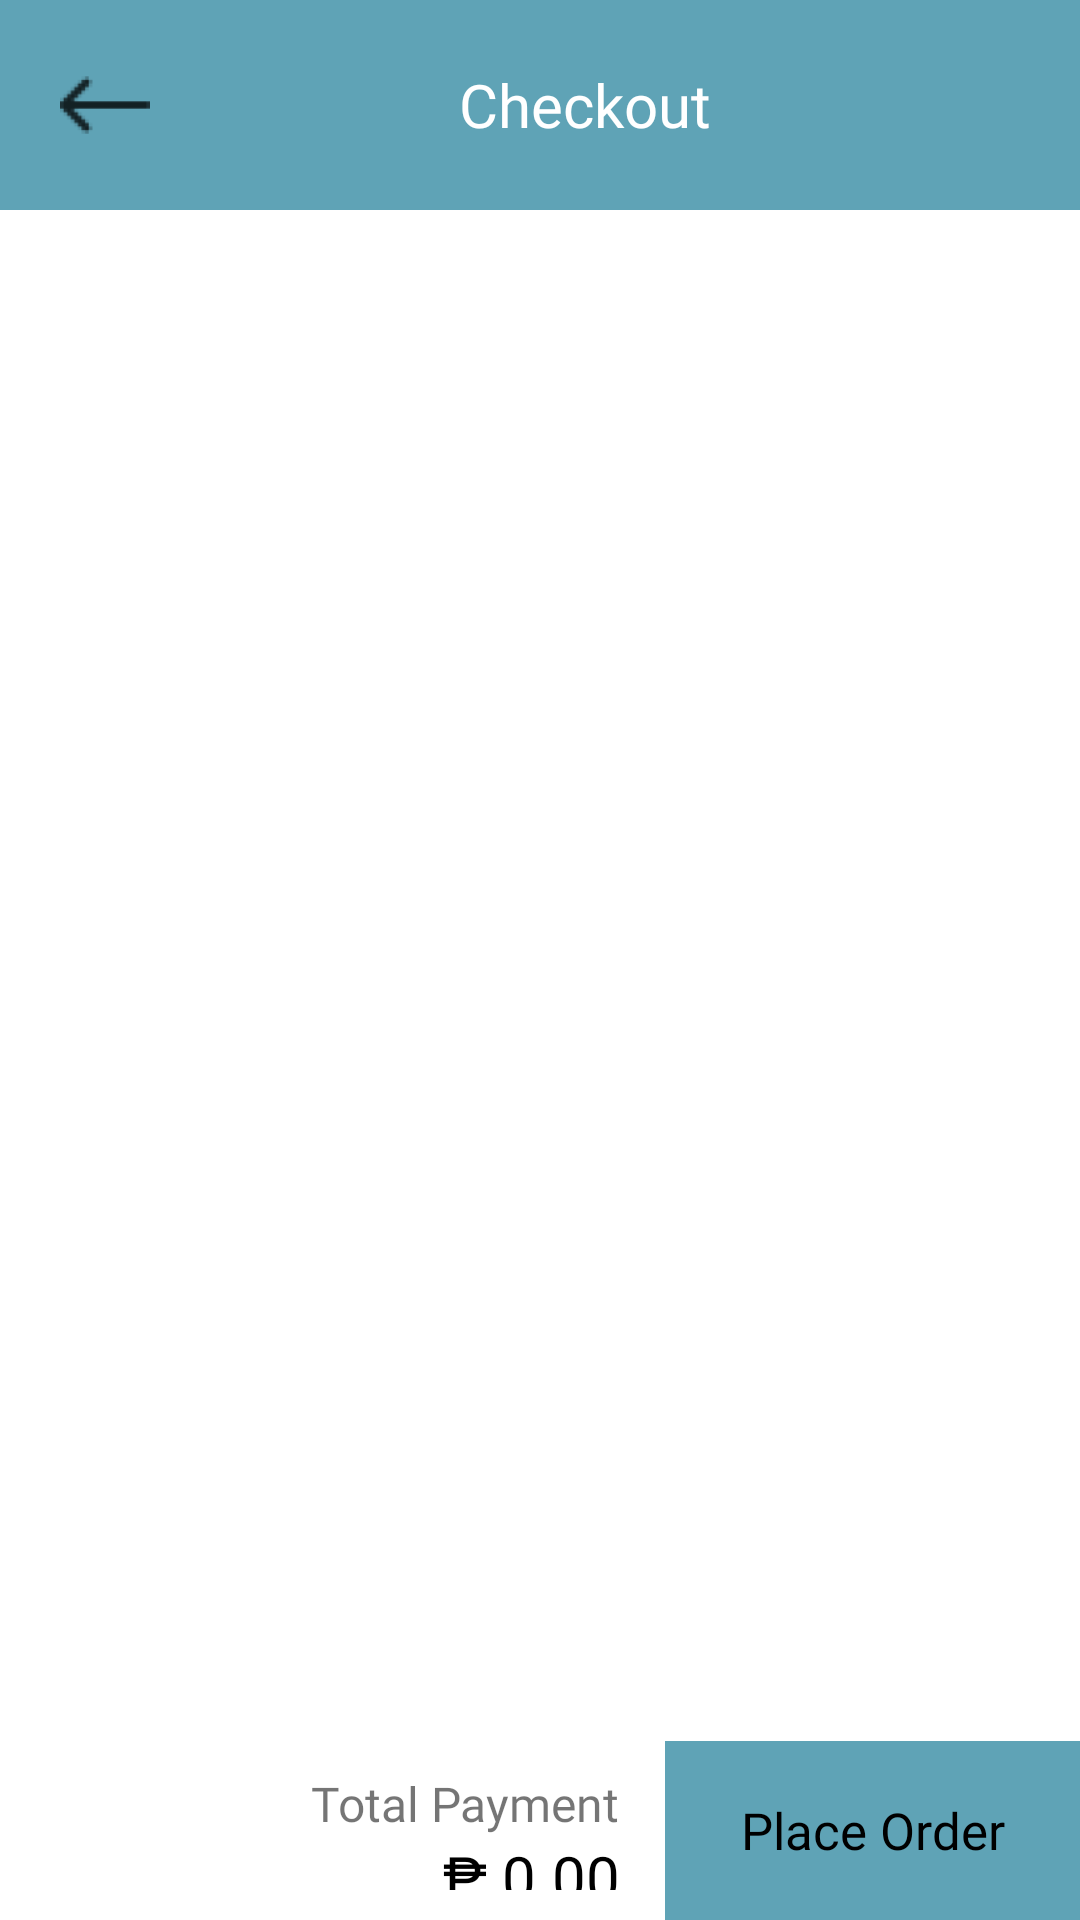

Screen size 1080×1920. Icon name, then its box in pixels as (x1, y1, x2, y2):
back: (60, 76, 150, 134)
